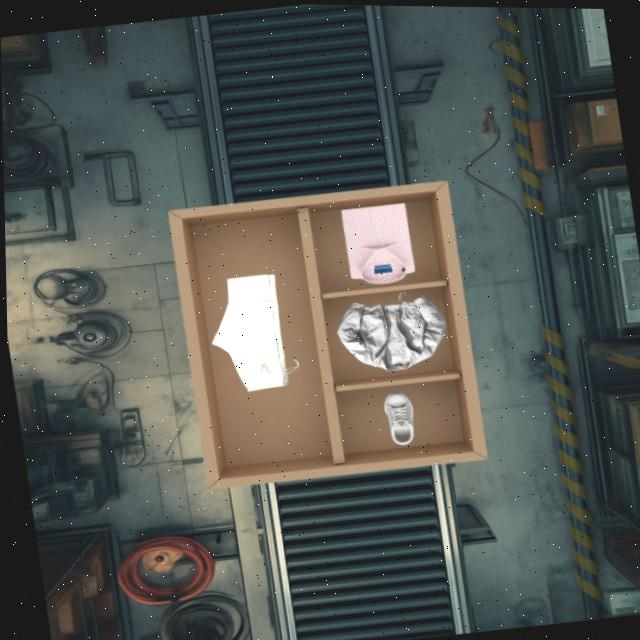jacket: (337, 296, 445, 370)
shirt: (341, 203, 414, 284)
sneaker: (383, 391, 413, 444)
trousers: (212, 274, 287, 390)
